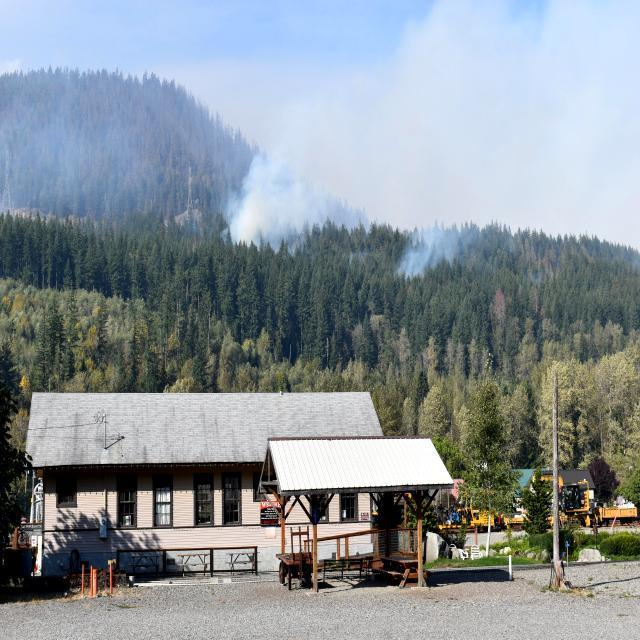Smoke: (216, 28, 640, 269)
